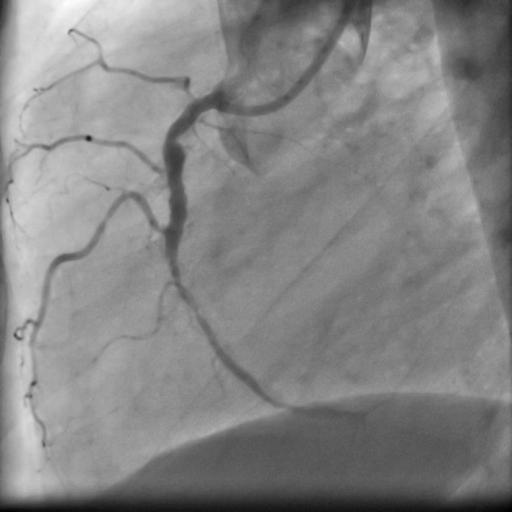Stenosis: (158, 121, 194, 150)
